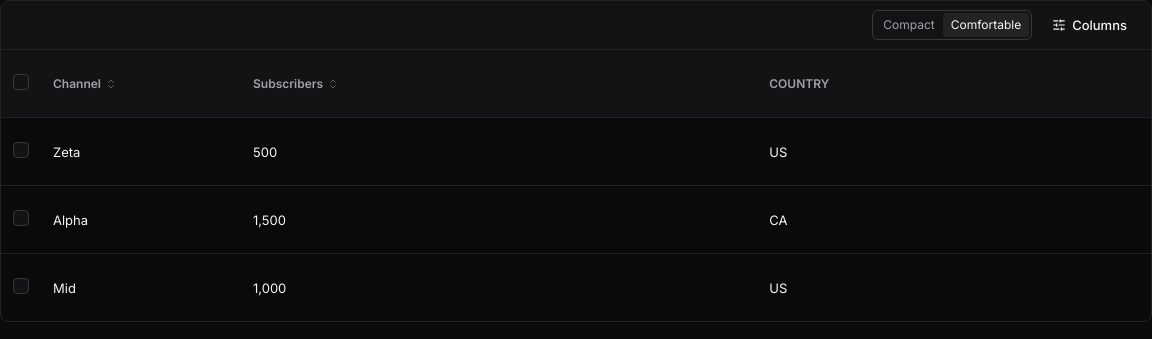
Test: Table › renderBulkActions appears when rows are selected and disappears when cleared
This screenshot has width=1152, height=339.
What coordinates should you click on to do the following:
click the checkbox named "Select row 1"
I would click on:
 (21, 150)
Its box is [13, 142, 29, 158].
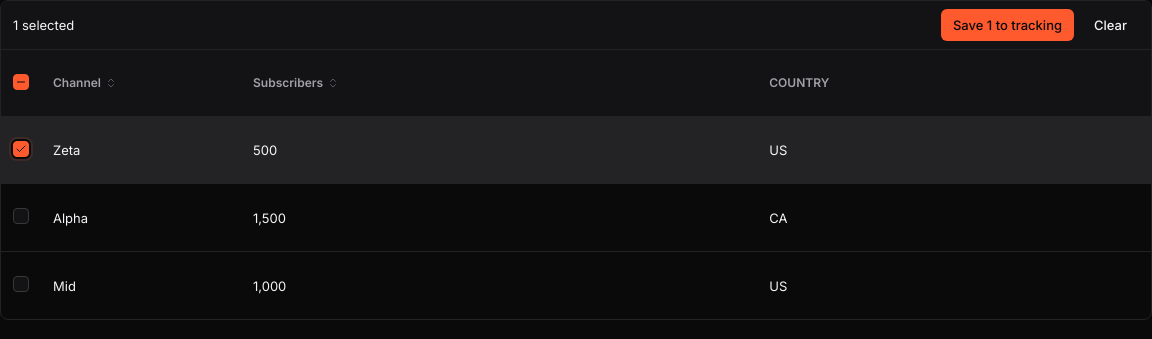
Expected: the button "Save 1 to tracking" is shown
What coordinates should you click on to do the following:
click the button "Save 1 to tracking"
I would click on:
 (1007, 25)
Its box is [941, 9, 1074, 41].
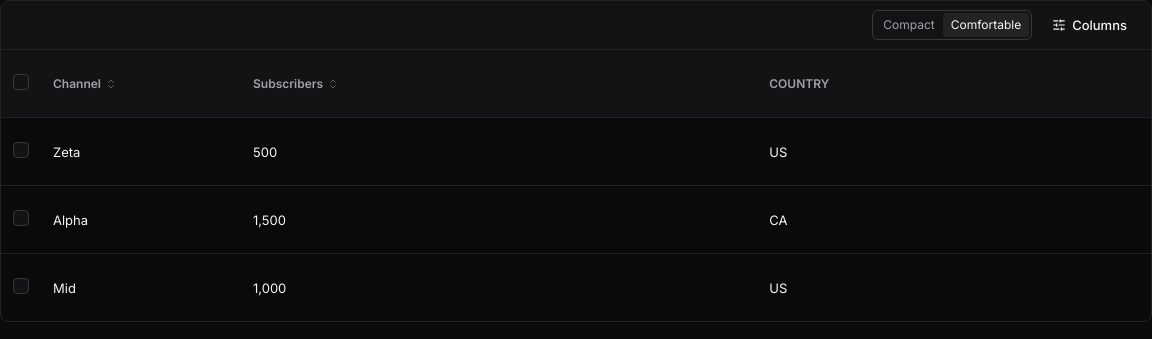
Expected: the button "Save 1 to tracking" is gone
